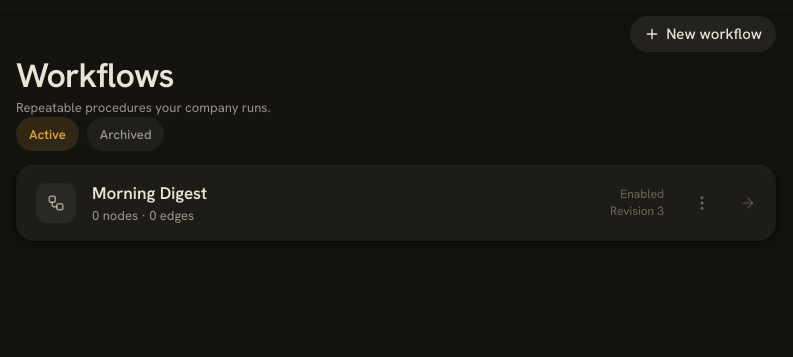
Test case: workflow list lifecycle menu › says so and refetches when a lifecycle write is rejected as stale
What coordinates should you click on to do the following:
click the button named "Workflow actions for Morning Digest"
I would click on:
 (702, 203)
Its box is x1=680 y1=181 x2=724 y2=225.
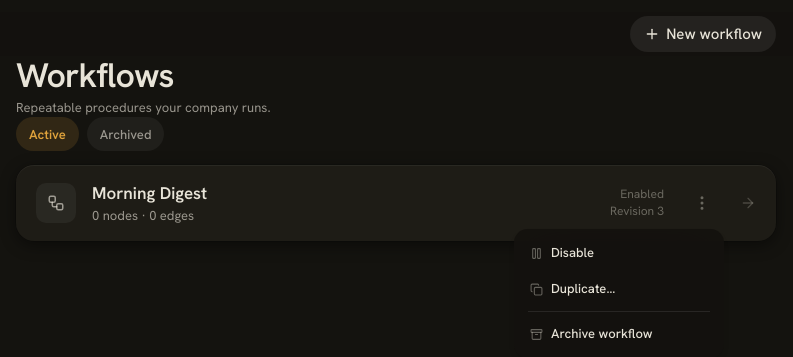
What coordinates should you click on to do the following:
click the menu item "Disable"
I would click on:
 (562, 253)
Its box is x1=530 y1=244 x2=594 y2=261.
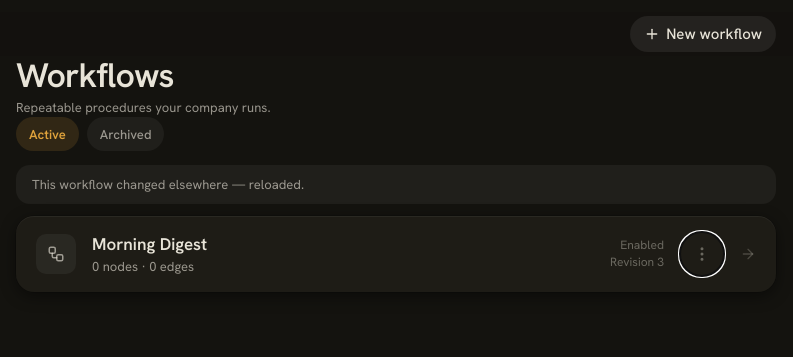
Check: the message shows "changed elsewhere", box x1=32 y1=176 x2=304 y2=193
